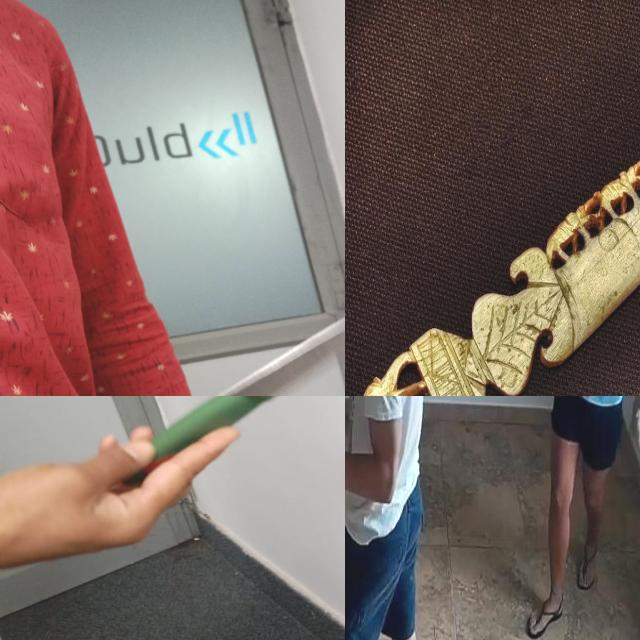Knife: (125, 396, 275, 489)
